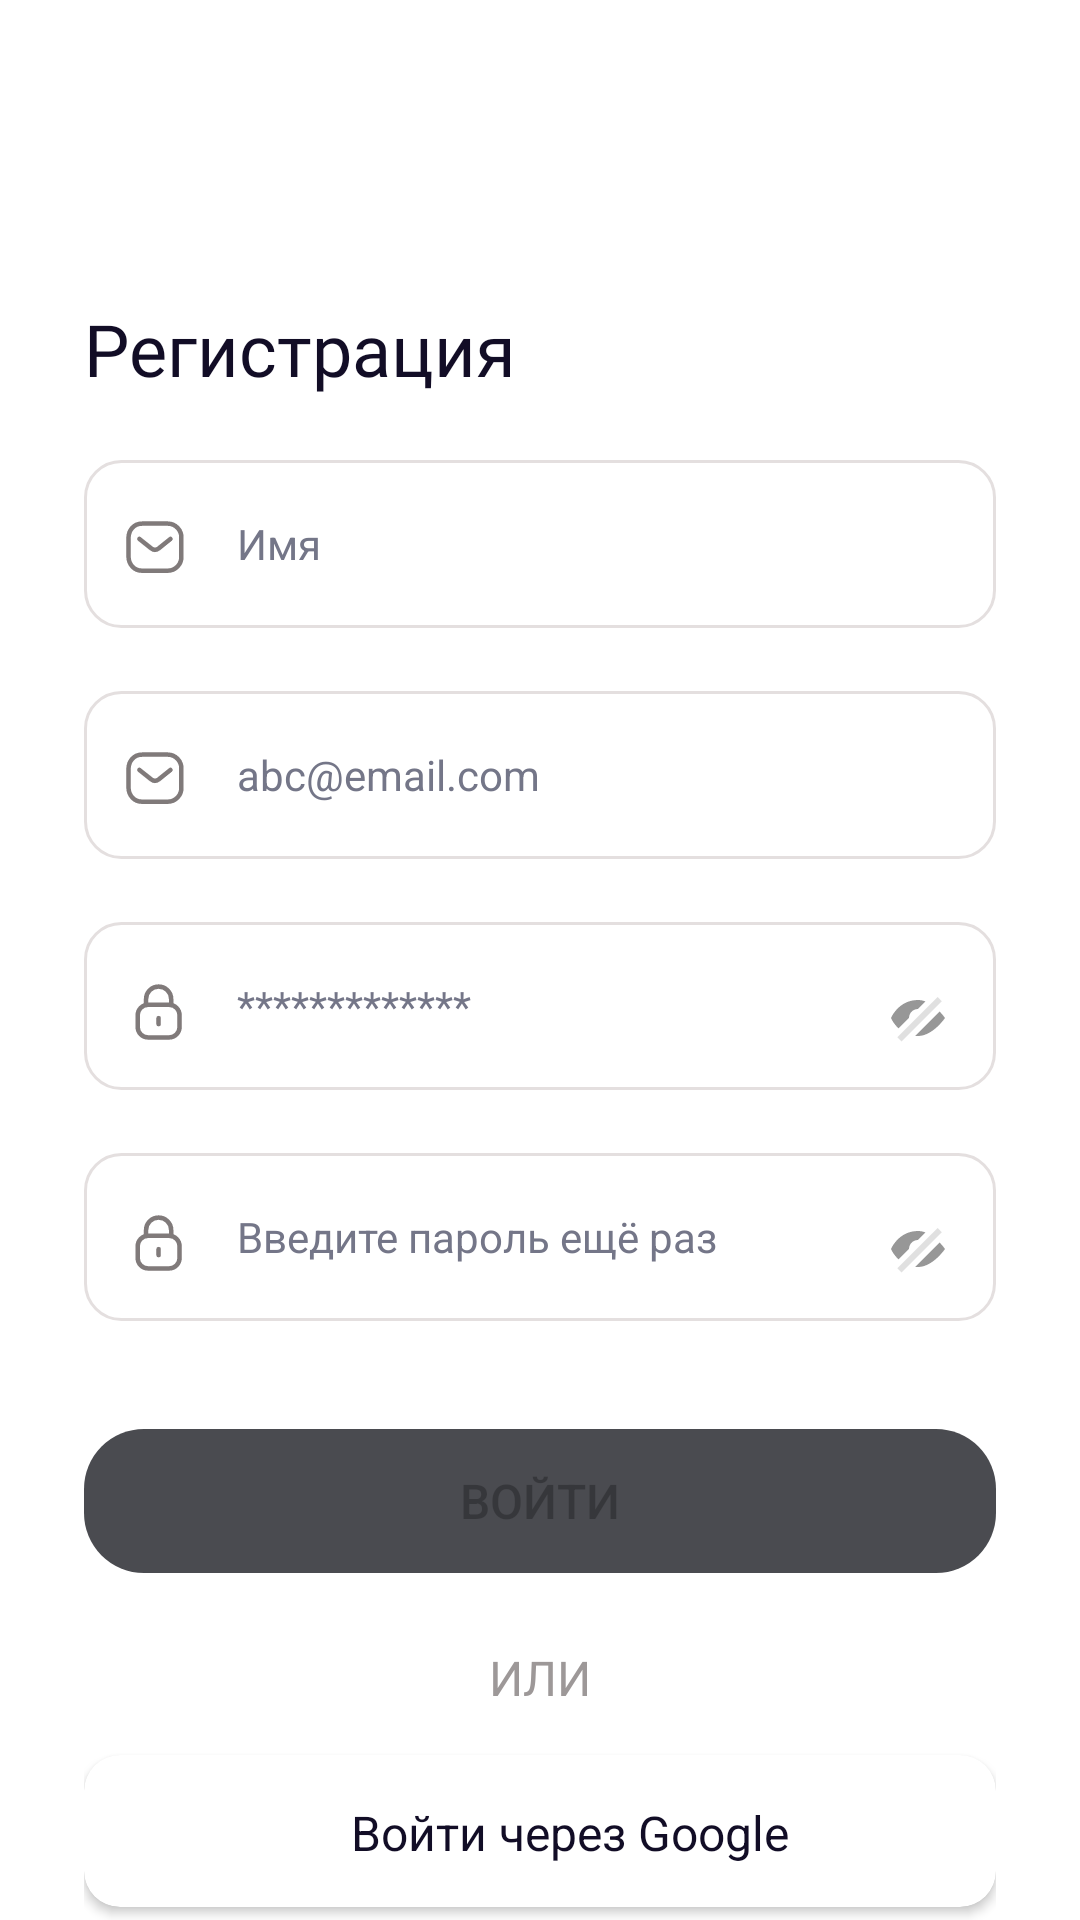

Screen size 1080×1920. Icon name, then its box in pixels as (x1, y1, x2, y2):
pass: (135, 984, 182, 1040), (135, 1215, 182, 1271)
view pas: (891, 998, 945, 1041), (891, 1229, 945, 1272)
